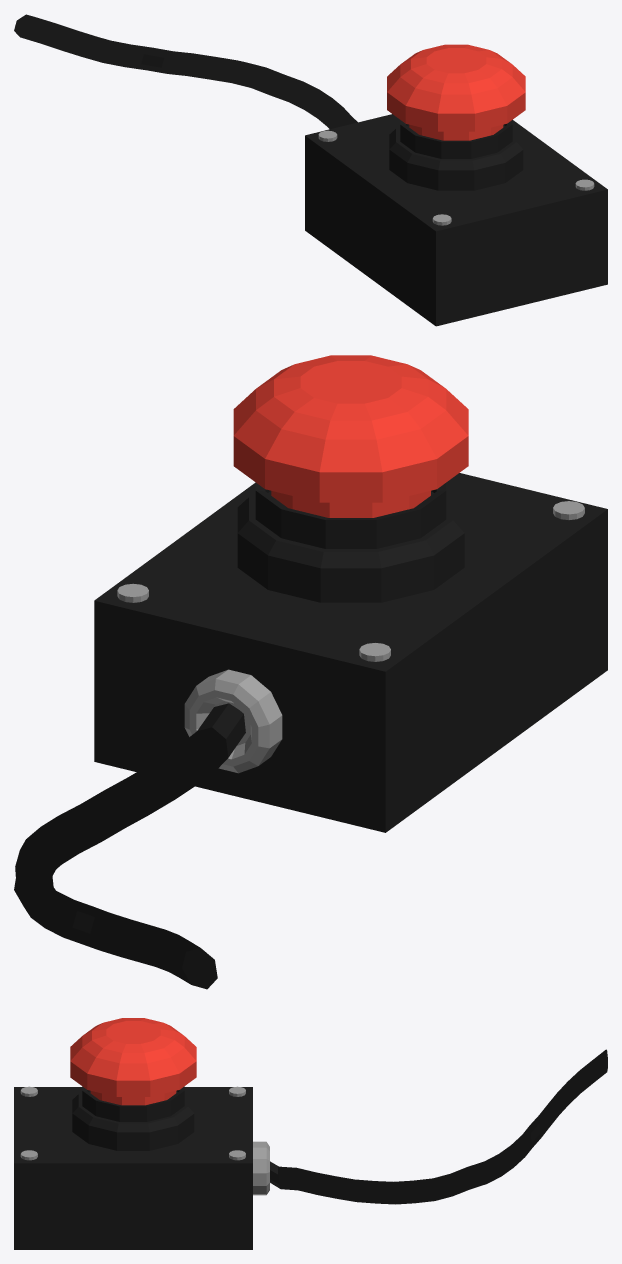
File: Big Red Button.glb
The picture shows the model from 3 angles, top to bottom: view 1: azimuth 30°, elevation 25°; view 2: azimuth 150°, elevation 25°; view 3: azimuth 270°, elevation 25°; orthographic projection. The views are drawn at different scales.
Visible parts, largest first — view 1: Node; view 2: Node; view 3: Node.
Part boxes in pixels (x1,y1,x2,y2): Node: (14, 14, 607, 326); Node: (14, 355, 607, 989); Node: (14, 1018, 607, 1249).
Bounding box in the file's own units: 0.8255 × 0.5797 × 1.74.
